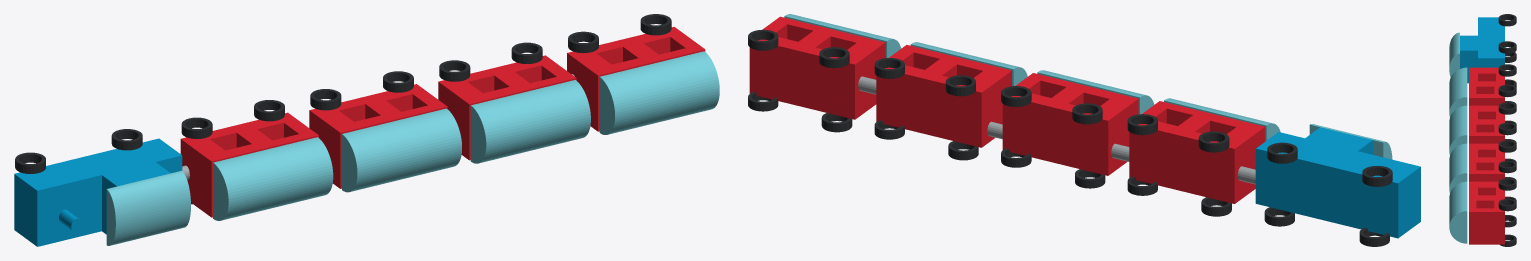
File: tinker.obj
The picture shows the model from 3 angles, left to right: view 1: azimuth 30°, elevation 25°; view 2: azimuth 150°, elevation 25°; view 3: azimuth 270°, elevation 25°; orthographic projection. The views are drawn at different scales.
Visible parts, largest first — view 1: group_0_7720667, group_0_15277357, group_0_40919, group_0_2829873; view 2: group_0_15277357, group_0_40919, group_0_2829873, group_0_7720667, group_0_10988977; view 3: group_0_15277357, group_0_7720667, group_0_2829873, group_0_40919.
Boxes of the visible parts, <box> form: group_0_7720667: <box>106,51,719,245</box>; group_0_15277357: <box>180,26,705,217</box>; group_0_40919: <box>14,138,182,246</box>; group_0_2829873: <box>15,14,671,204</box>; group_0_15277357: <box>749,16,1265,203</box>; group_0_40919: <box>1255,127,1420,238</box>; group_0_2829873: <box>748,29,1392,246</box>; group_0_7720667: <box>784,14,1392,159</box>; group_0_10988977: <box>858,76,1255,184</box>; group_0_15277357: <box>1469,67,1504,244</box>; group_0_7720667: <box>1449,32,1467,243</box>; group_0_2829873: <box>1498,14,1516,246</box>; group_0_40919: <box>1460,17,1504,83</box>.
Bounding box in the file's own units: 246 × 31 × 37.5.
